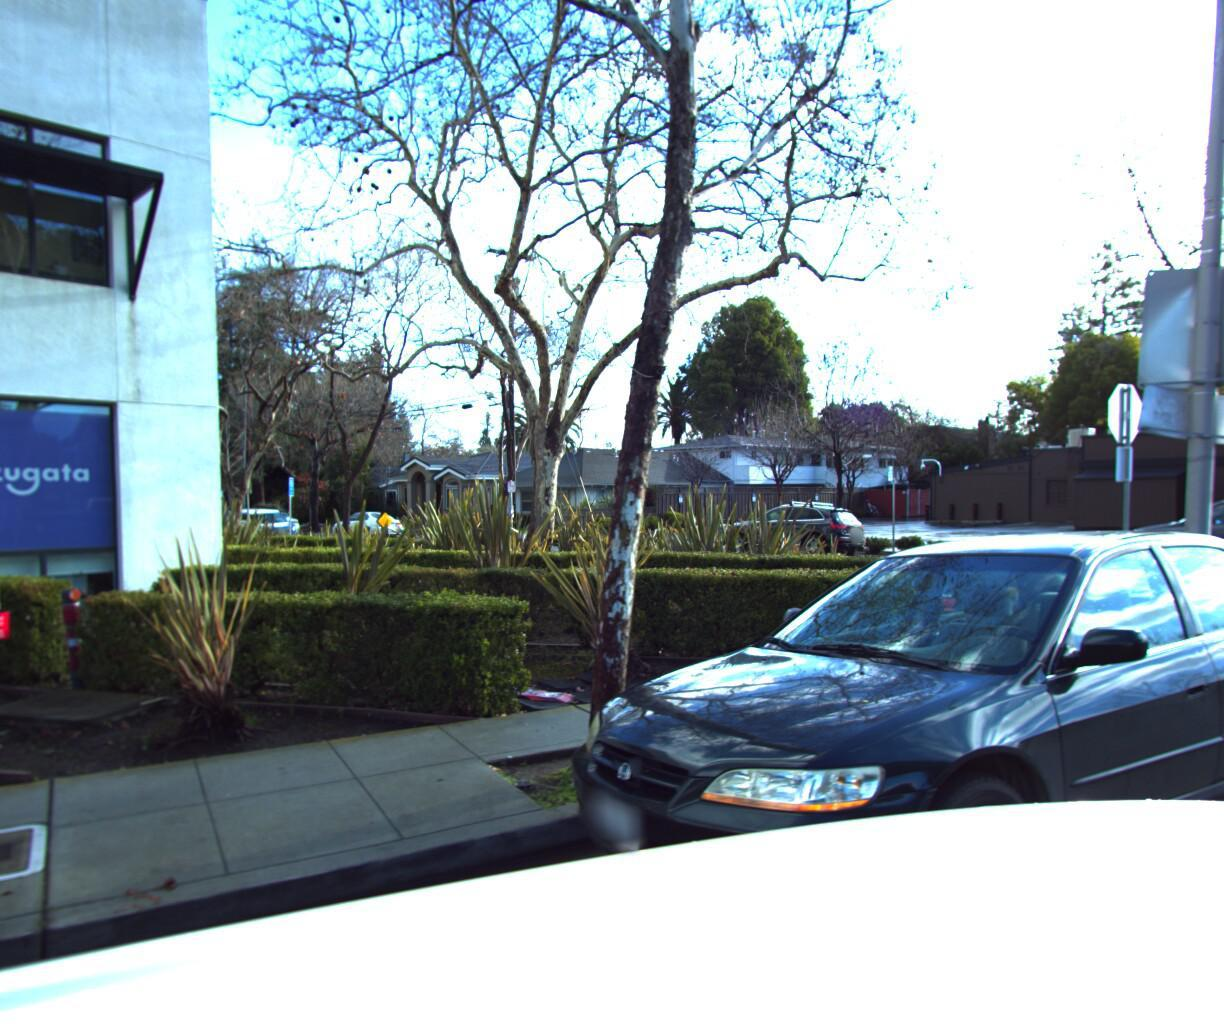car: (487, 511, 1224, 1024), (1110, 485, 1224, 588), (715, 493, 879, 561), (221, 504, 313, 552), (331, 507, 412, 539), (261, 500, 330, 527)
